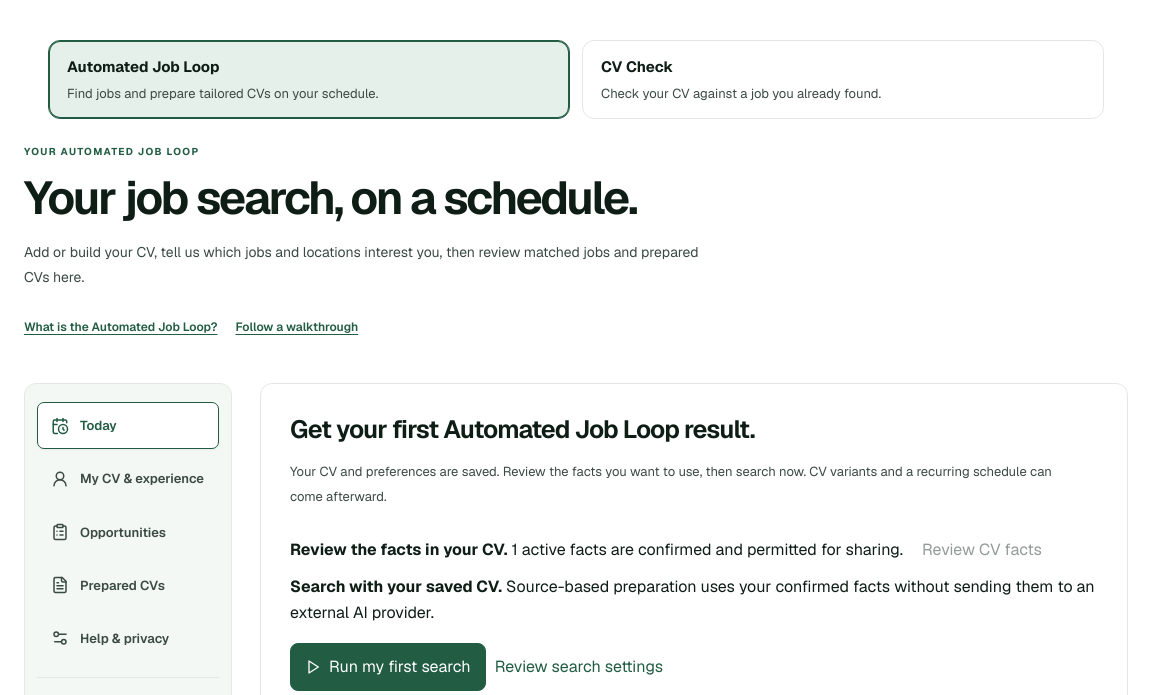
Automated Job Loop source-first onboarding › preserves a returning record and does not repeat unchanged fact confirmation automatically
This screenshot has width=1152, height=695.
Click the button "My CV & experience".
click(128, 479)  # box [37,456,219,503]
(page scrolled)
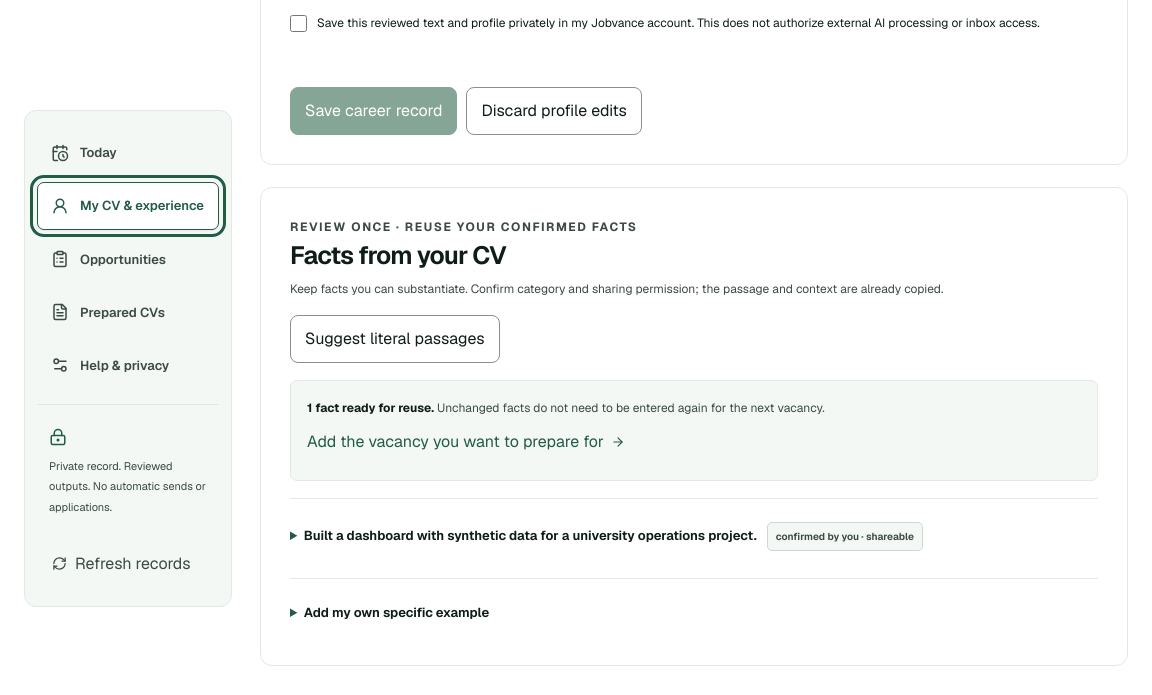
Expected: the text "1 fact ready for reuse." is shown, [307,400,434,416]
